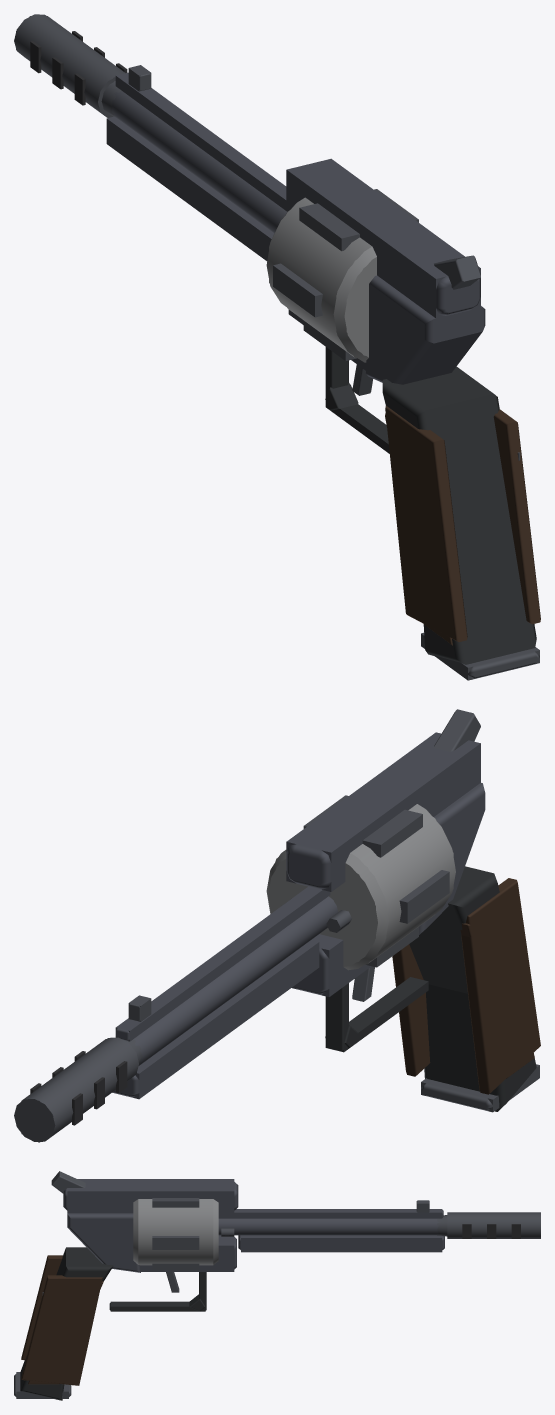
Rendered from p_grit.glb.
3 views of the same model, one above another, from view 1: azimuth 30°, elevation 25°; view 2: azimuth 150°, elevation 25°; view 3: azimuth 270°, elevation 25° (orthographic). The views are drawn at different scales.
Parts seen in each view (by area): view 1: L0, L1; view 2: L0, L1; view 3: L0, L1.
Boxes of the visible parts, box(x1,y1,x2,y2) form: L0: box(14, 14, 540, 679); L1: box(16, 16, 539, 680); L0: box(14, 709, 540, 1141); L1: box(14, 732, 539, 1142); L0: box(14, 1171, 540, 1400); L1: box(16, 1179, 540, 1398).
Size of the model in its own units: 0.066 by 0.183 by 0.4006.
